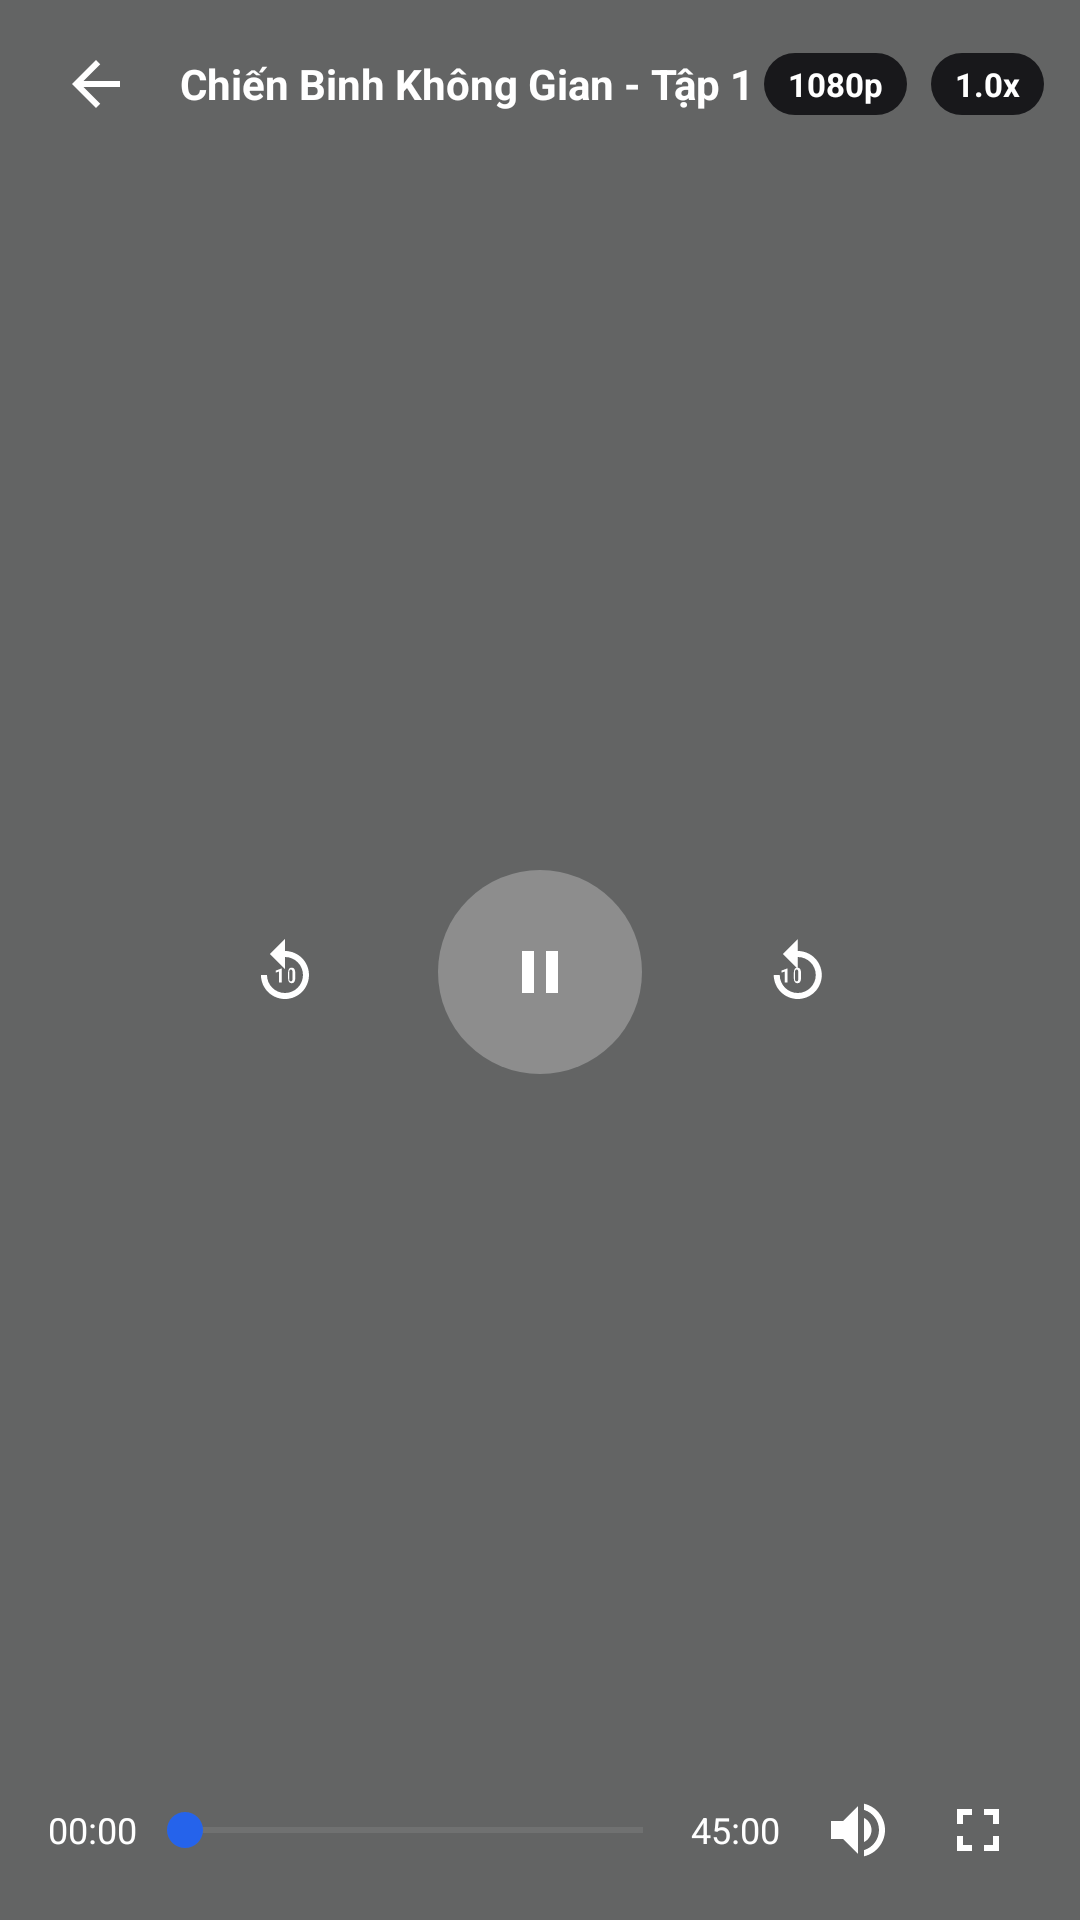

Named icons in this screenshot (1080 x 1920) and their centers, (x,y):
arrow back: (96,84)
fullscreen: (978,1830)
pause: (540,972)
replay: (285,969)
volume up: (858,1830)
